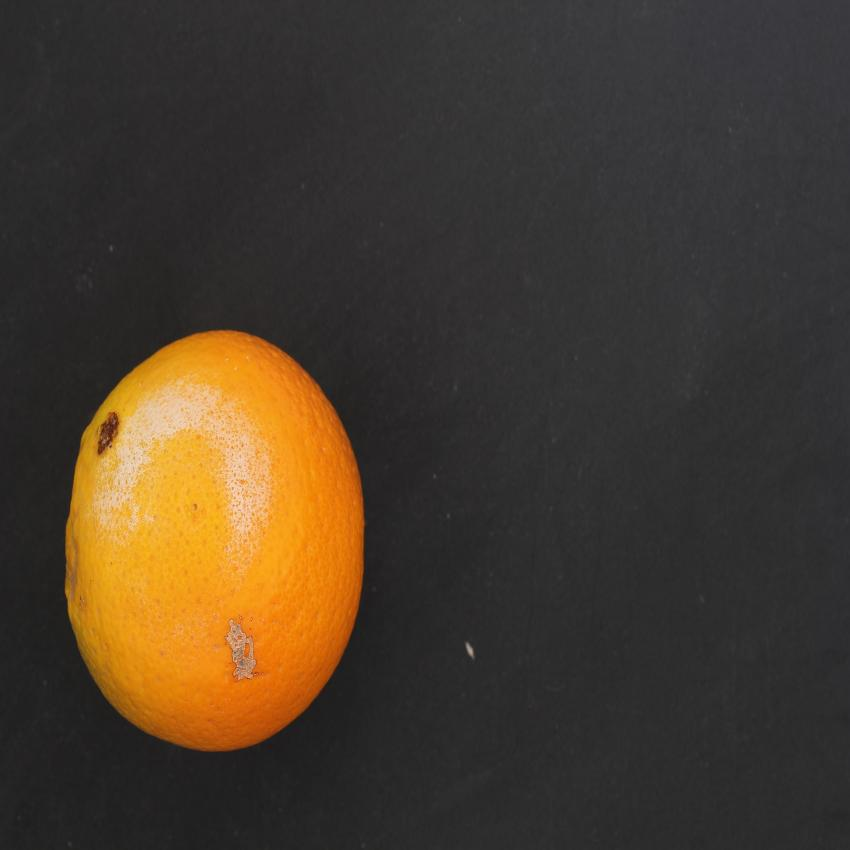Mal estado: (56, 320, 390, 761)
